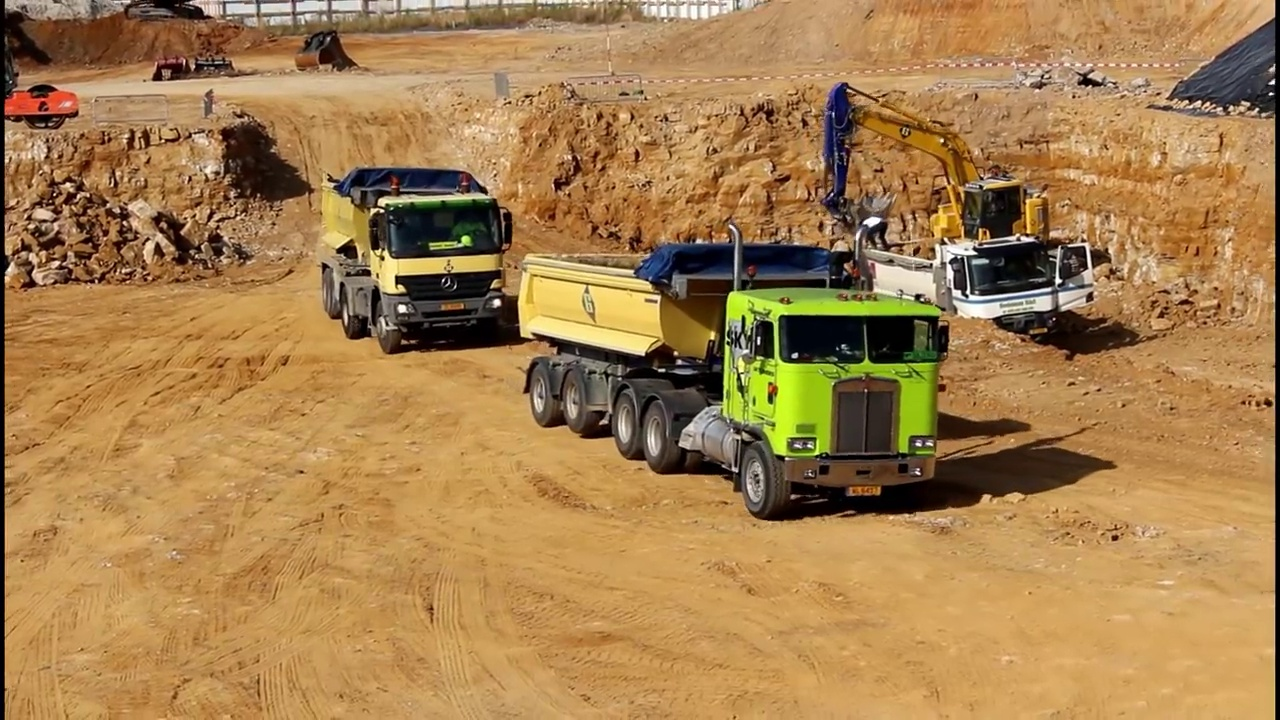compactor: (1, 79, 81, 131)
excavator: (809, 78, 1079, 305)
truck: (515, 221, 958, 521), (315, 164, 517, 359), (865, 228, 1096, 357)
